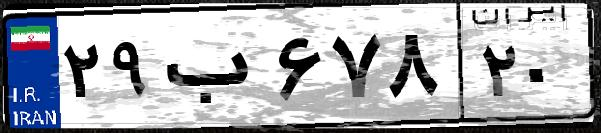0: (525, 38, 570, 115)
2: (57, 26, 110, 100), (475, 38, 525, 113)
6: (270, 28, 330, 110)
7: (330, 28, 385, 110)
8: (385, 28, 445, 110)
9: (110, 28, 158, 98)
ب: (158, 20, 270, 120)
